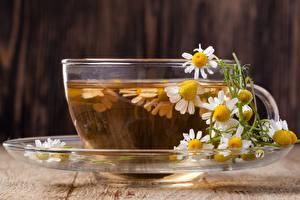chamomile: (200, 99, 237, 128), (265, 118, 294, 147), (174, 84, 200, 111), (176, 133, 212, 152), (190, 49, 213, 75), (223, 135, 249, 151)
